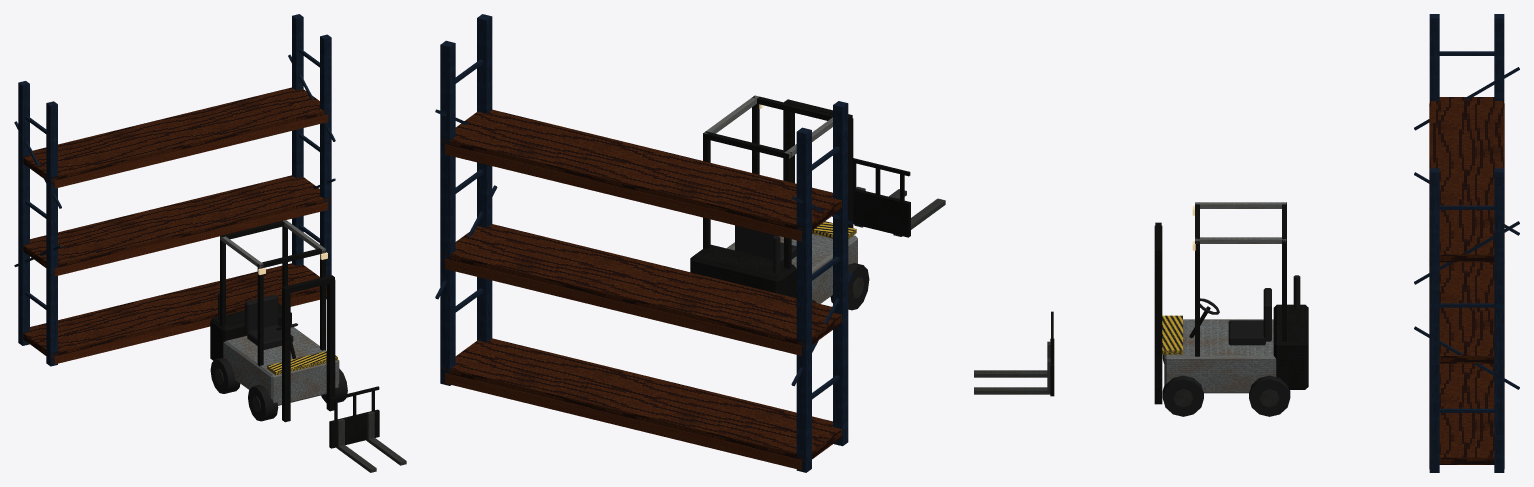
File: forklift.glb
3 renders of one model, left to right at view 1: azimuth 30°, elevation 25°; view 2: azimuth 150°, elevation 25°; view 3: azimuth 270°, elevation 25°, orthographic. The views are drawn at different scales.
Parts seen in each view (by area): view 1: rack, forklift_body, carriage; view 2: rack, forklift_body, carriage; view 3: rack, forklift_body, carriage.
Boxes of the visible parts, box(x1,y1,x2,y2) form: rack: box(14, 14, 335, 366); forklift_body: box(210, 220, 347, 422); carriage: box(329, 386, 406, 472); rack: box(435, 14, 853, 472); forklift_body: box(690, 95, 869, 310); carriage: box(853, 158, 945, 237); rack: box(1414, 14, 1519, 472); forklift_body: box(1154, 202, 1308, 416); carriage: box(974, 311, 1054, 396).
Size of the model in its own units: 4.52 by 4 by 6.58.
Materials: 10 (8 with a texture image).
